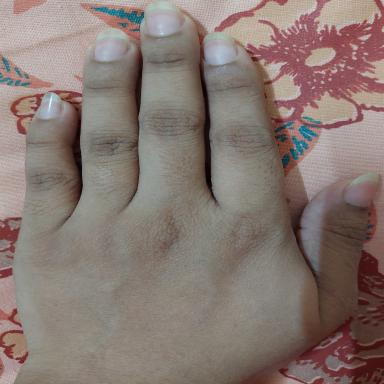normal skin: (14, 1, 378, 384)
